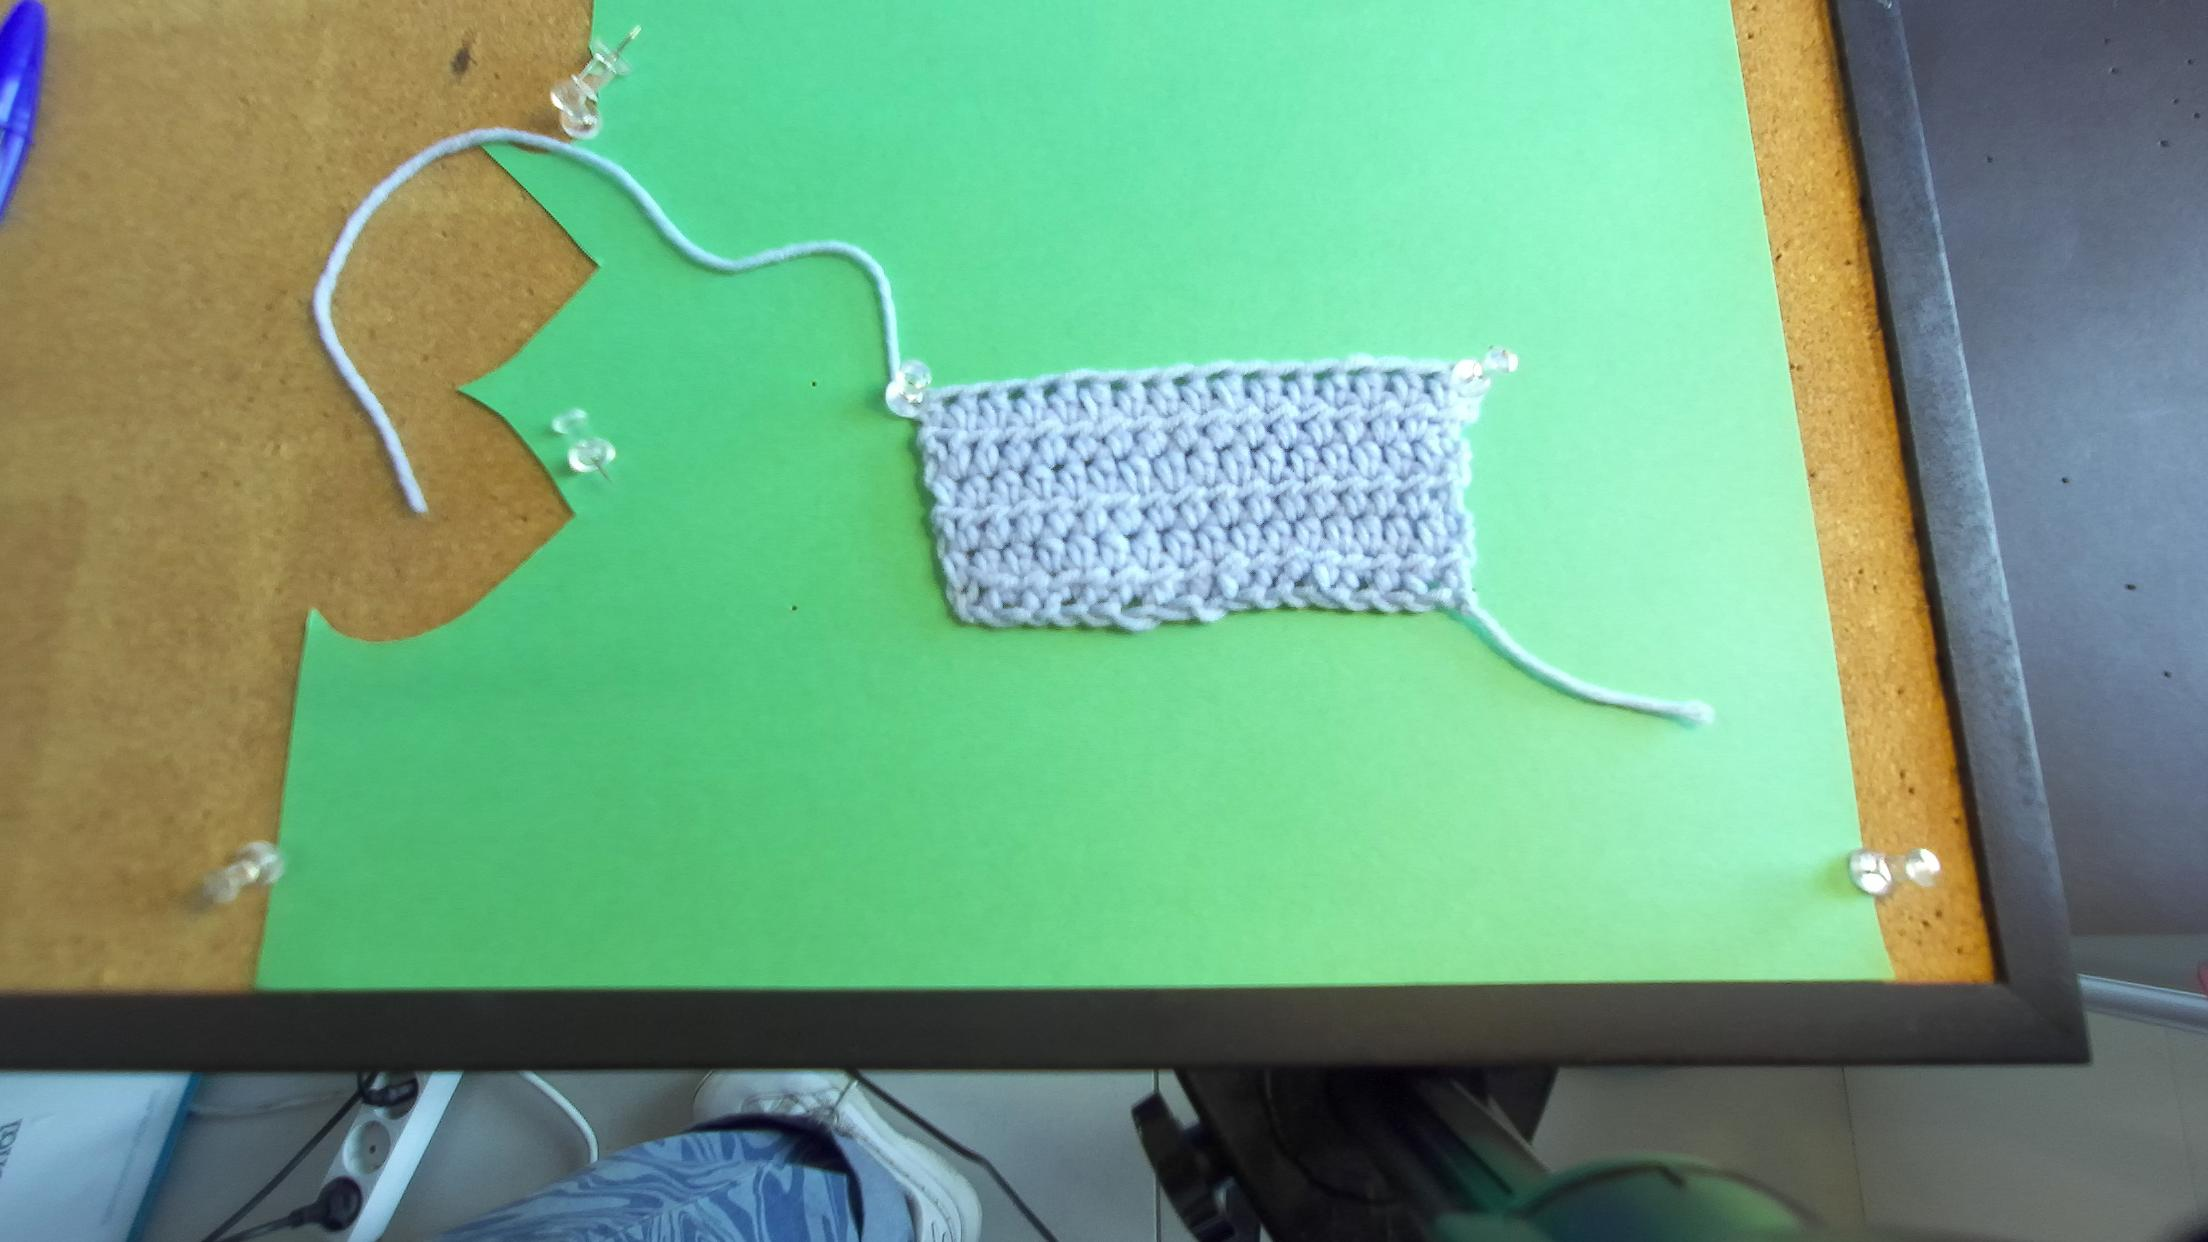hole: (1206, 370, 1231, 382), (940, 393, 958, 409), (1312, 369, 1333, 382), (1042, 382, 1059, 399), (1382, 367, 1406, 378), (1416, 370, 1439, 381), (1077, 378, 1092, 393), (1008, 387, 1025, 400), (1110, 378, 1127, 391), (1345, 365, 1366, 376), (1171, 375, 1189, 387), (1242, 370, 1262, 381), (1278, 370, 1298, 381), (977, 390, 992, 403), (1142, 376, 1156, 390)
swatch: (892, 361, 1494, 635)
